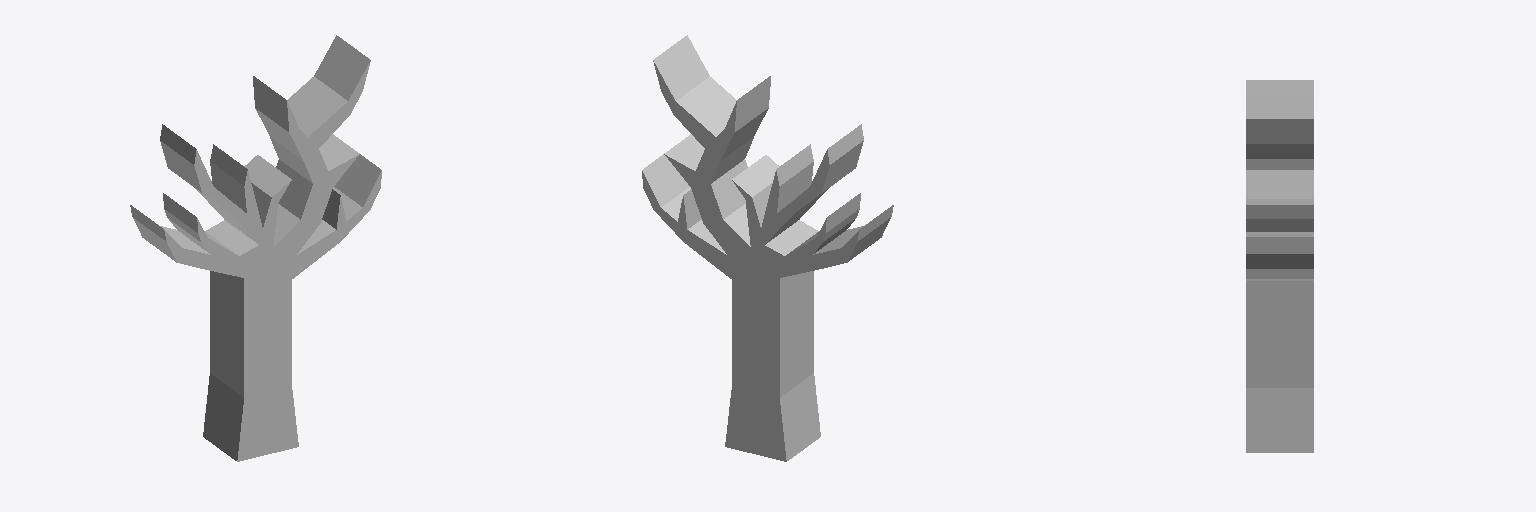
Rendered from roughTree1.obj.
3 views of the same model, side by side, from view 1: azimuth 30°, elevation 25°; view 2: azimuth 150°, elevation 25°; view 3: azimuth 270°, elevation 25° (orthographic).
Visible parts, largest first — view 1: Cube_Cube.003; view 2: Cube_Cube.003; view 3: Cube_Cube.003.
Part boxes in pixels (x1,y1,x2,y2): Cube_Cube.003: (130, 35, 381, 461); Cube_Cube.003: (642, 35, 893, 461); Cube_Cube.003: (1246, 80, 1313, 452).
Bounding box in the file's own units: 3.58 × 5.8 × 0.9778.